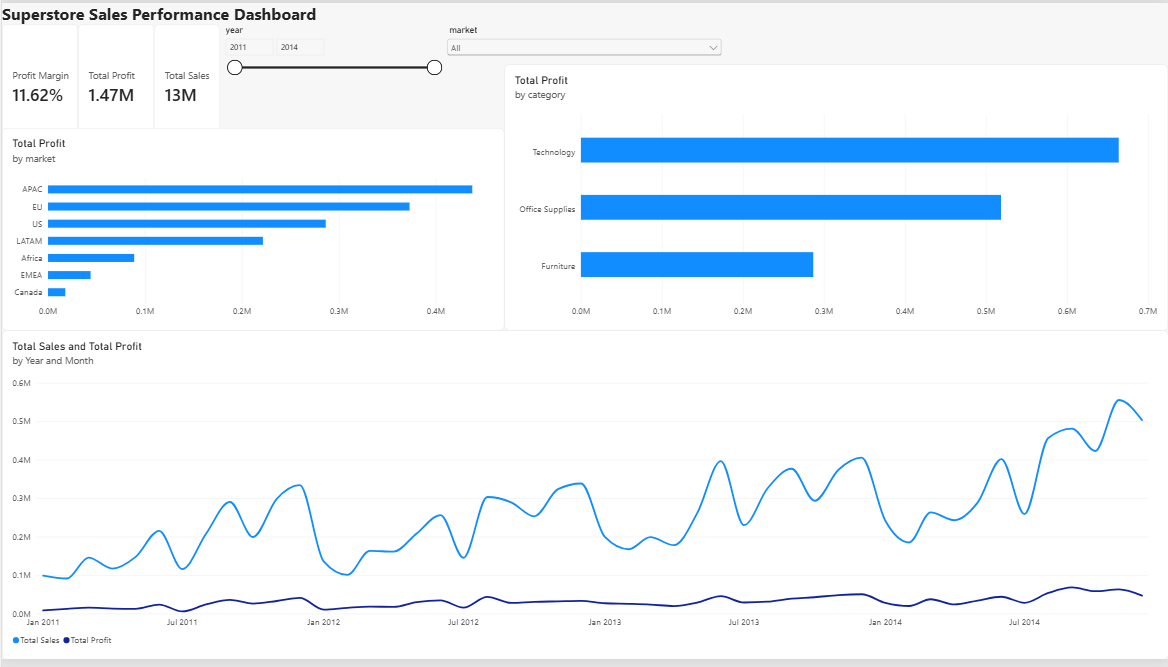

What the dashboard file says about the page in this screenshot:
{"tool":"powerbi","page":{"name":"Page 1","canvas":[1920,1080],"ordinal":0},"visuals":[{"type":"cardVisual","fields":{"Data":["SuperStoreOrders.Total Sales"]},"box":[251.1,35,107,207.9],"z":0},{"type":"cardVisual","fields":{"Data":["SuperStoreOrders.Total Profit"]},"box":[125.6,35,125.6,207.9],"z":1},{"type":"cardVisual","fields":{"Data":["SuperStoreOrders.Profit Margin"]},"box":[0,35,125.6,207.9],"z":2},{"type":"lineChart","fields":{"Category":["SuperStoreOrders.order_date.Variation.Date Hierarchy.Year","SuperStoreOrders.order_date.Variation.Date Hierarchy.Month"],"Y":["SuperStoreOrders.Total Sales","SuperStoreOrders.Total Profit"]},"box":[0,539.3,1920.4,541.3],"z":3},{"type":"clusteredBarChart","fields":{"Category":["SuperStoreOrders.market"],"Y":["SuperStoreOrders.Total Profit"]},"box":[0,205.8,827.4,333.4],"z":4},{"type":"clusteredBarChart","fields":{"Category":["SuperStoreOrders.category"],"Y":["SuperStoreOrders.Total Profit"]},"box":[827.4,100.9,1093,438.4],"z":5},{"type":"slicer","fields":{"Values":["SuperStoreOrders.year"]},"box":[360.2,35,368.4,170.8],"z":6},{"type":"slicer","fields":{"Values":["SuperStoreOrders.market"]},"box":[728.6,35,461.1,170.8],"z":7},{"type":"textbox","box":[100,100,300,300],"z":9},{"type":"textbox","box":[0,0,543.4,70],"z":11}]}

Visuals, with their boxes in screenshot pixels (x1, y1, x2, y2), scaled from the page's 1920x1080 canvas onto the 1168x667 screenshot:
cardVisual - SuperStoreOrders.Total Sales: select_region(153, 22, 218, 150)
cardVisual - SuperStoreOrders.Total Profit: select_region(76, 22, 153, 150)
cardVisual - SuperStoreOrders.Profit Margin: select_region(0, 22, 76, 150)
lineChart - SuperStoreOrders.order_date.Variation.Date Hierarchy.Year x SuperStoreOrders.order_date.Variation.Date Hierarchy.Month: select_region(0, 333, 1167, 666)
clusteredBarChart - SuperStoreOrders.market x SuperStoreOrders.Total Profit: select_region(0, 127, 503, 333)
clusteredBarChart - SuperStoreOrders.category x SuperStoreOrders.Total Profit: select_region(503, 62, 1167, 333)
slicer - SuperStoreOrders.year: select_region(219, 22, 443, 127)
slicer - SuperStoreOrders.market: select_region(443, 22, 724, 127)
textbox: select_region(61, 62, 243, 247)
textbox: select_region(0, 0, 331, 43)
